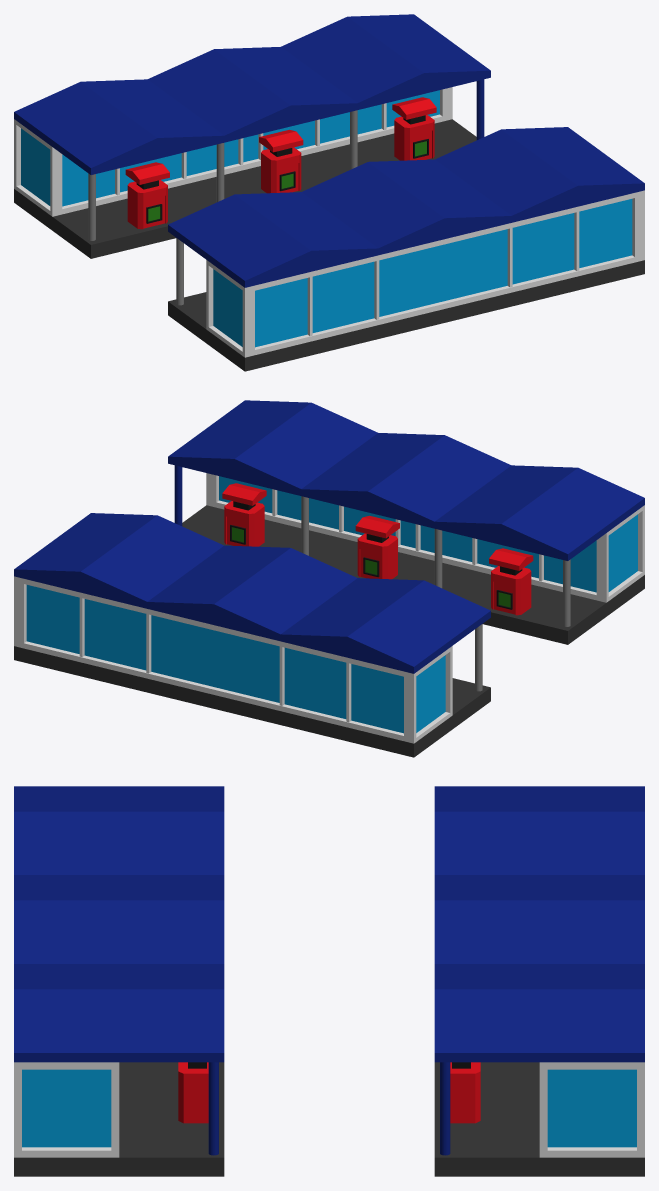
File: Gas Station.fbx
The picture shows the model from 3 angles, top to bottom: view 1: azimuth 30°, elevation 25°; view 2: azimuth 150°, elevation 25°; view 3: azimuth 270°, elevation 25°; orthographic projection. The views are drawn at different scales.
Visible parts, largest first — view 1: Cube.002; view 2: Cube.002; view 3: Cube.002.
Part boxes in pixels (x1,y1,x2,y2): Cube.002: [14, 14, 644, 371]; Cube.002: [14, 400, 644, 757]; Cube.002: [14, 786, 644, 1176].
Bounding box in the file's own units: 600 × 150 × 600.
